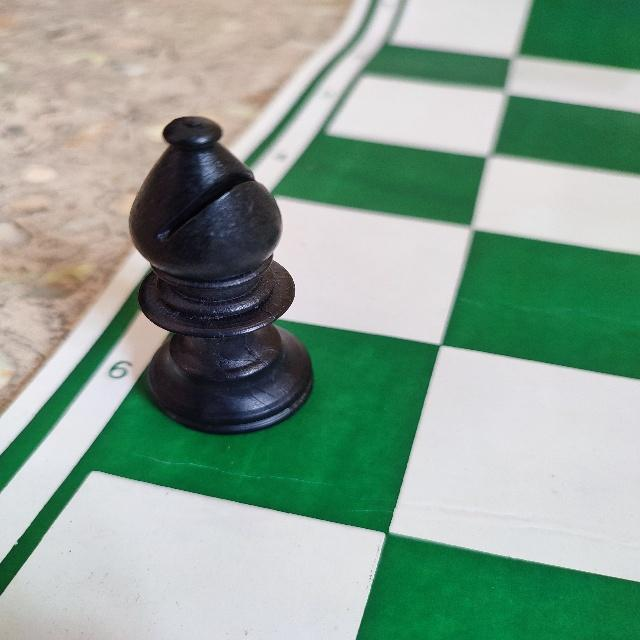Bishop: (127, 113, 317, 436)
